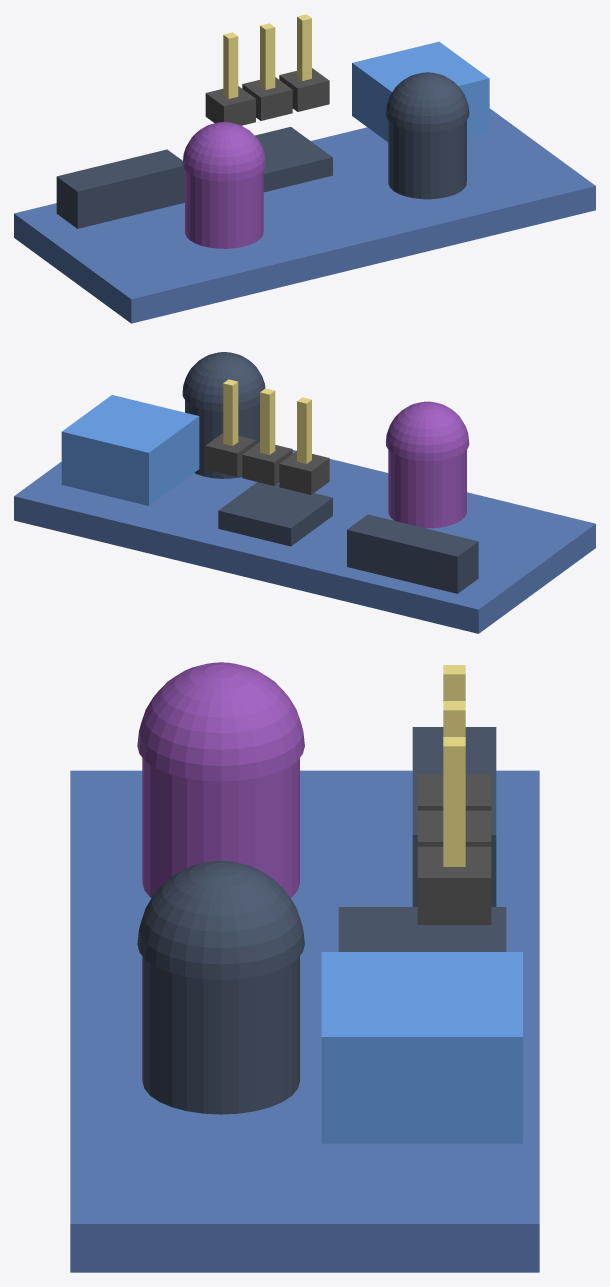
File: ir-obstacle-sensor.glb
3 renders of one model, top to bottom at view 1: azimuth 30°, elevation 25°; view 2: azimuth 150°, elevation 25°; view 3: azimuth 270°, elevation 25°, orthographic. The views are drawn at different scales.
Visible parts, largest first — view 1: ir-obstacle-sensor_mesh; view 2: ir-obstacle-sensor_mesh; view 3: ir-obstacle-sensor_mesh.
Boxes of the visible parts, left/top/right/bottom form: ir-obstacle-sensor_mesh: left=14, top=14, right=595, bottom=323; ir-obstacle-sensor_mesh: left=14, top=352, right=595, bottom=633; ir-obstacle-sensor_mesh: left=70, top=662, right=539, bottom=1272.
Bounding box in the file's own units: 32 × 11.2 × 14.
